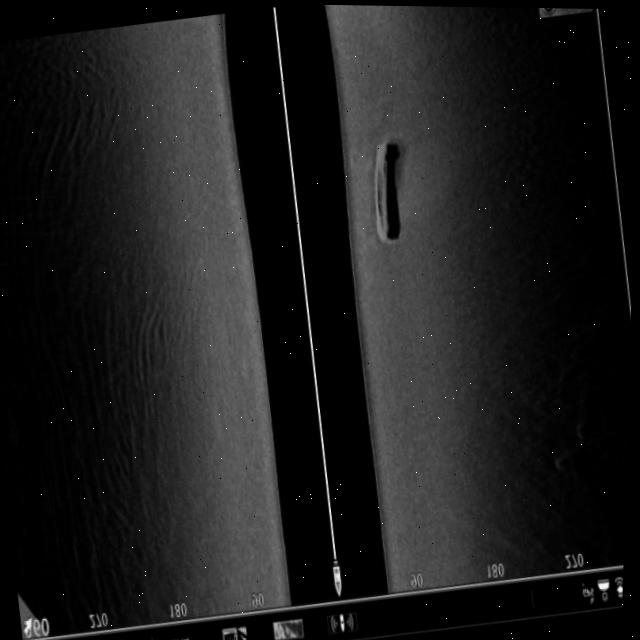shipwreck: (360, 137, 405, 253)
